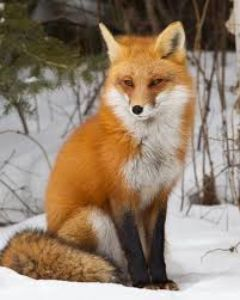fox: (21, 16, 214, 287)
